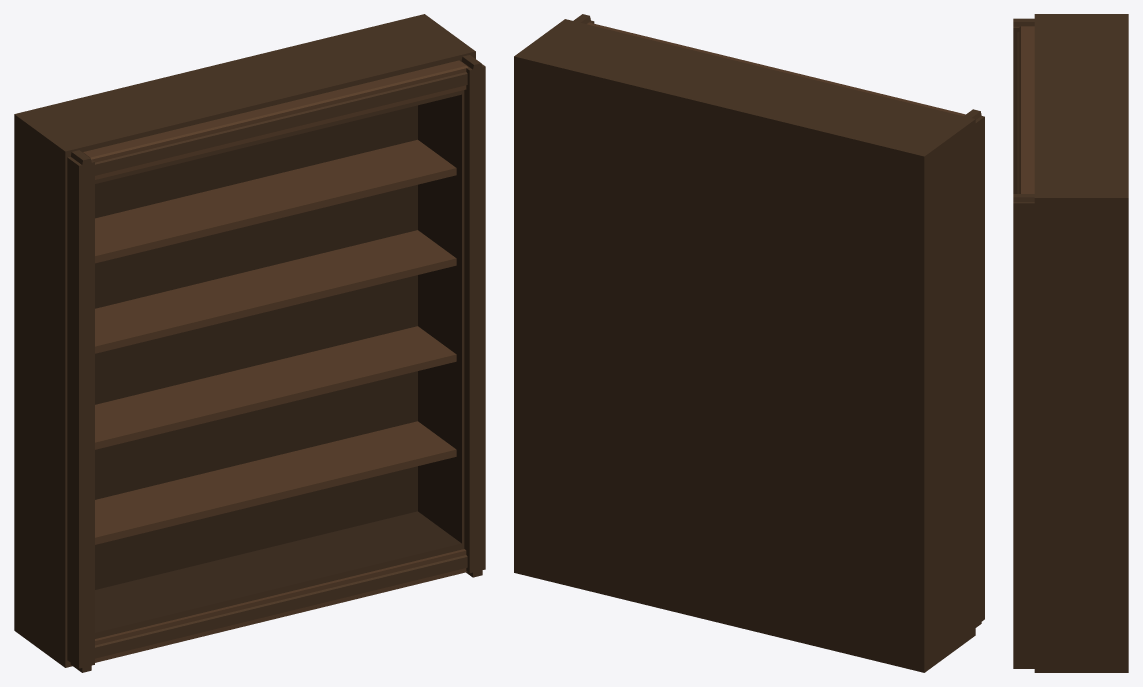
Rendered from SM_Bld_Bookshelf_02.fbx.
3 renders of one model, left to right at view 1: azimuth 30°, elevation 25°; view 2: azimuth 150°, elevation 25°; view 3: azimuth 270°, elevation 25°, orthographic. The views are drawn at different scales.
Visible parts, largest first — view 1: SM_Bld_Bookshelf_02; view 2: SM_Bld_Bookshelf_02; view 3: SM_Bld_Bookshelf_02.
Part boxes in pixels (bbox=[...]): SM_Bld_Bookshelf_02: bbox=[14, 14, 485, 672]; SM_Bld_Bookshelf_02: bbox=[514, 14, 984, 672]; SM_Bld_Bookshelf_02: bbox=[1013, 14, 1128, 672].
Size of the model in its own units: 2500 by 3006 by 660.
